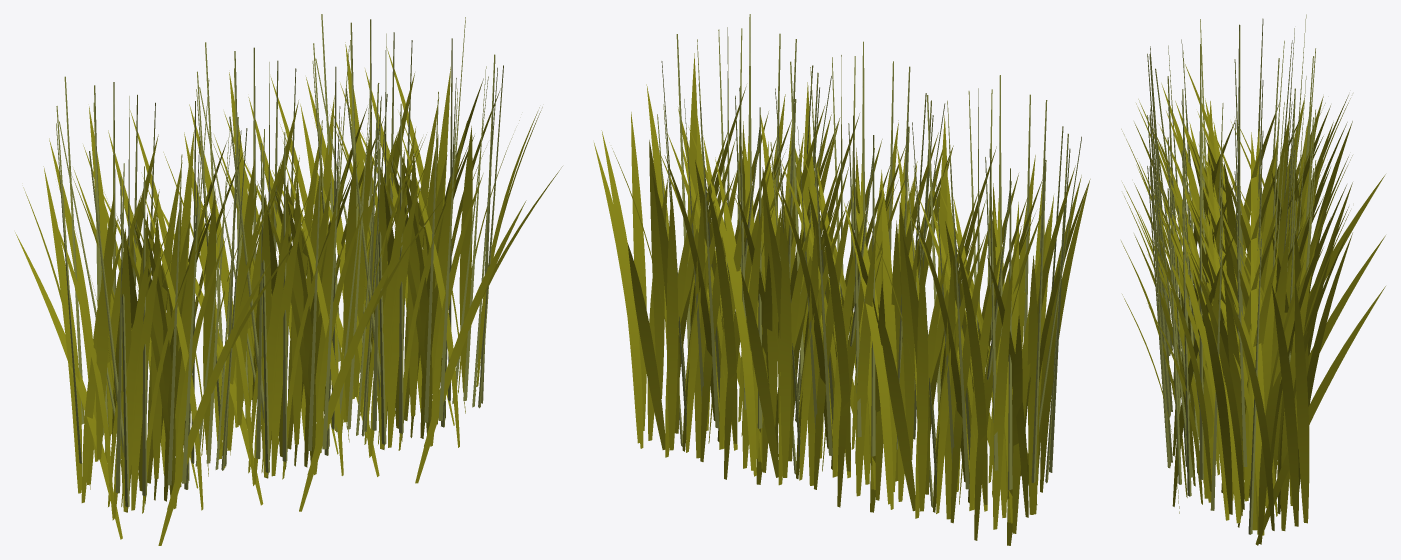
Rendered from Grau2.fbx.
The picture shows the model from 3 angles, left to right: view 1: azimuth 30°, elevation 25°; view 2: azimuth 150°, elevation 25°; view 3: azimuth 270°, elevation 25°; orthographic projection. The views are drawn at different scales.
Parts seen in each view (by area): view 1: reed_grass_leaf95, reed_grass_leaf21, reed_grass_leaf105, reed_grass_leaf109, reed_grass_leaf152, reed_grass_leaf118, reed_grass_leaf12, reed_grass_leaf81, reed_grass_leaf104, reed_grass_leaf30, reed_grass_leaf35, reed_grass_leaf131 (+86 smaller); view 2: reed_grass_leaf14, reed_grass_leaf172, reed_grass_leaf83, reed_grass_leaf161, reed_grass_leaf103, reed_grass_leaf44, reed_grass_leaf128, reed_grass_leaf97, reed_grass_leaf33, reed_grass_leaf136, reed_grass_leaf76, reed_grass_leaf113 (+88 smaller); view 3: reed_grass_leaf161, reed_grass_leaf144, reed_grass_leaf146, reed_grass_leaf157, reed_grass_leaf173, reed_grass_leaf150, reed_grass_leaf125, reed_grass_leaf119, reed_grass_leaf142, reed_grass_leaf131, reed_grass_leaf160, reed_grass_leaf151 (+65 smaller).
Part boxes in pixels (box(x1,y1,x2,y2)): reed_grass_leaf95: box(43, 166, 81, 493); reed_grass_leaf21: box(271, 208, 302, 476); reed_grass_leaf105: box(96, 193, 114, 459); reed_grass_leaf109: box(131, 244, 161, 510); reed_grass_leaf152: box(388, 180, 418, 447); reed_grass_leaf118: box(415, 200, 526, 483); reed_grass_leaf12: box(299, 229, 409, 511); reed_grass_leaf81: box(158, 263, 269, 545); reed_grass_leaf104: box(123, 244, 150, 511); reed_grass_leaf30: box(263, 210, 291, 477); reed_grass_leaf35: box(343, 154, 356, 420); reed_grass_leaf131: box(459, 126, 472, 391); reed_grass_leaf14: box(780, 219, 791, 477); reed_grass_leaf172: box(666, 190, 678, 450); reed_grass_leaf83: box(917, 251, 928, 511); reed_grass_leaf161: box(594, 143, 643, 448); reed_grass_leaf103: box(992, 268, 1012, 529); reed_grass_leaf44: box(707, 169, 756, 476); reed_grass_leaf128: box(649, 140, 664, 398); reed_grass_leaf97: box(899, 201, 914, 459); reed_grass_leaf33: box(856, 233, 876, 496); reed_grass_leaf136: box(707, 183, 737, 443); reed_grass_leaf76: box(957, 245, 987, 504); reed_grass_leaf113: box(878, 304, 915, 511); reed_grass_leaf161: box(1294, 282, 1309, 523); reed_grass_leaf144: box(1271, 283, 1298, 526); reed_grass_leaf146: box(1193, 270, 1232, 514); reed_grass_leaf157: box(1224, 283, 1274, 530); reed_grass_leaf173: box(1258, 260, 1304, 544); reed_grass_leaf150: box(1255, 286, 1385, 545); reed_grass_leaf125: box(1193, 262, 1244, 509); reed_grass_leaf119: box(1251, 244, 1264, 535); reed_grass_leaf142: box(1223, 273, 1244, 515); reed_grass_leaf131: box(1166, 223, 1227, 499); reed_grass_leaf160: box(1152, 239, 1211, 491); reed_grass_leaf151: box(1281, 243, 1315, 530).
Bounding box in the file's own units: 1.12 × 1.03 × 0.6323.
